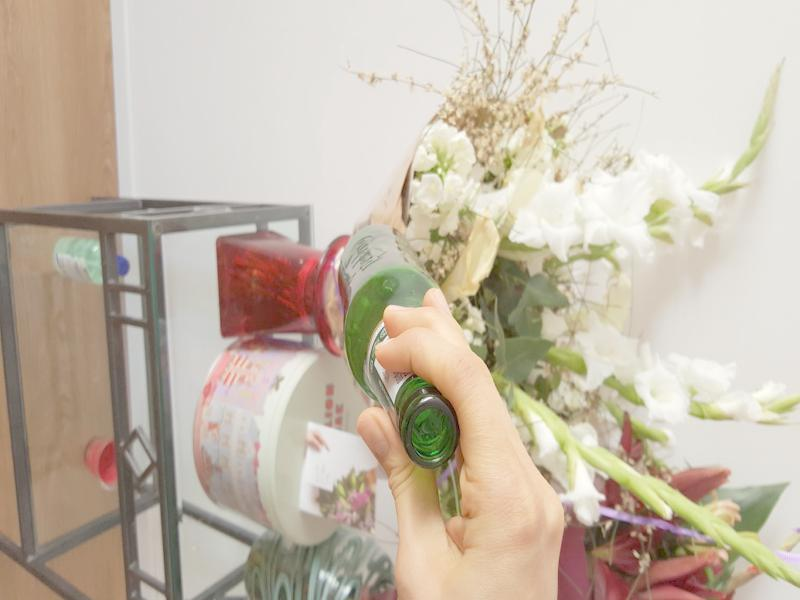Beer: (336, 223, 457, 467)
